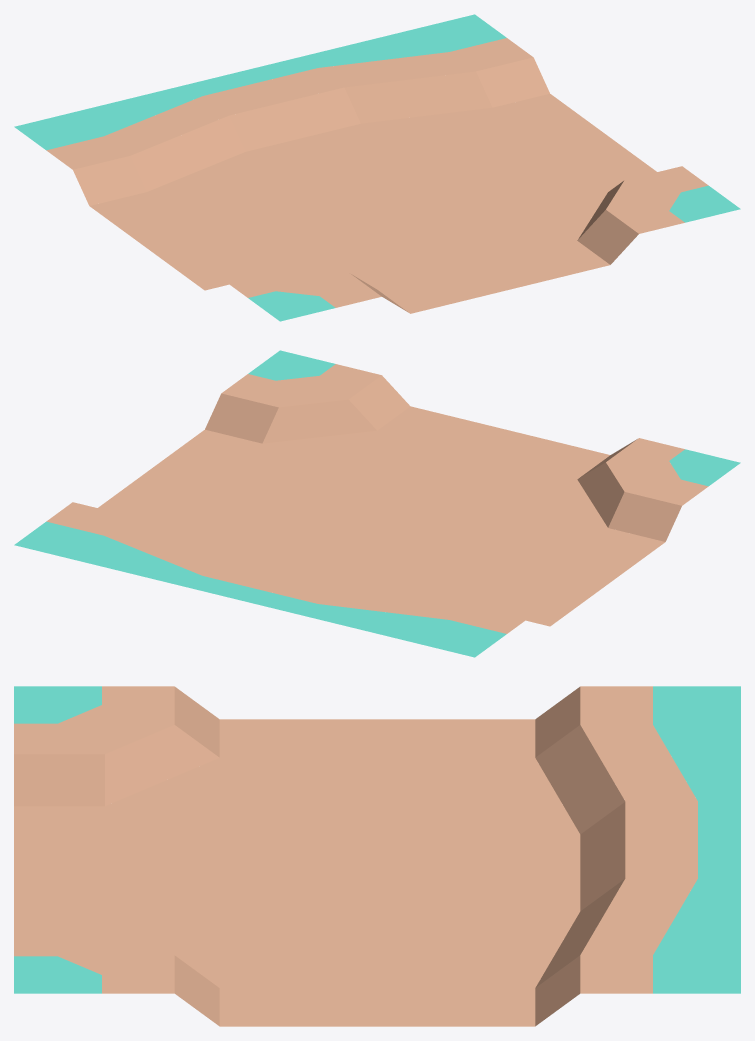
File: ground_pathSplit.glb
3 views of the same model, one above another, from view 1: azimuth 30°, elevation 25°; view 2: azimuth 150°, elevation 25°; view 3: azimuth 270°, elevation 25° (orthographic). The views are drawn at different scales.
Parts seen in each view (by area): view 1: ground_pathSplit; view 2: ground_pathSplit; view 3: ground_pathSplit.
Part boxes in pixels (bbox=[...]): ground_pathSplit: bbox=[14, 14, 740, 321]; ground_pathSplit: bbox=[14, 350, 740, 657]; ground_pathSplit: bbox=[14, 686, 740, 1026].
Size of the model in its own units: 1 by 0.05 by 1.
